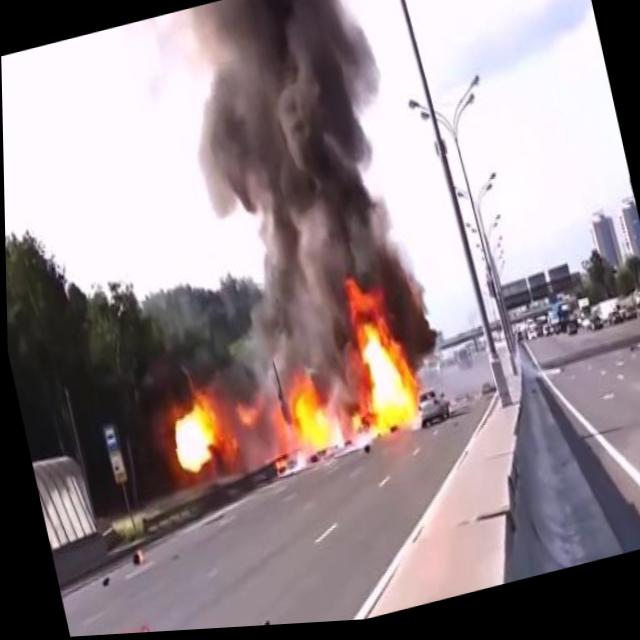fire: (336, 268, 428, 449), (272, 358, 342, 479), (159, 393, 233, 486), (225, 380, 275, 442), (344, 401, 369, 441), (268, 453, 291, 480)
